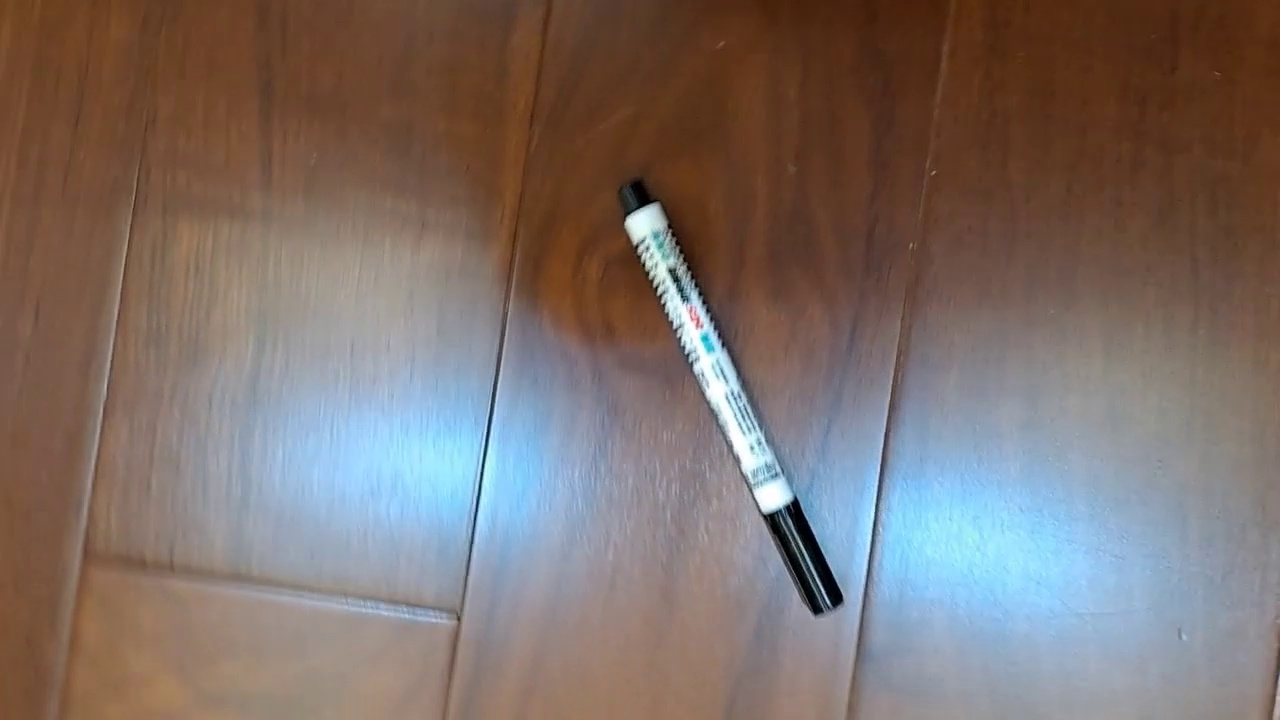pen: (616, 176, 846, 619)
